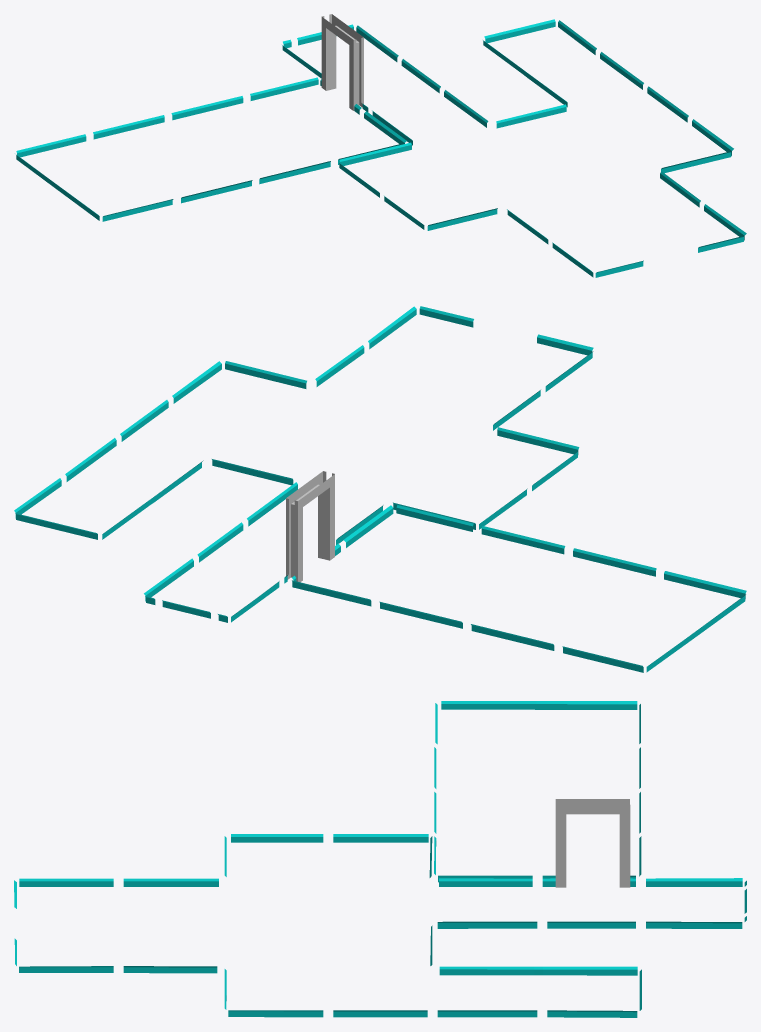
The model's file is CABIN_Boards_And_Doorway.fbx.
3 renders of one model, top to bottom at view 1: azimuth 30°, elevation 25°; view 2: azimuth 150°, elevation 25°; view 3: azimuth 270°, elevation 25°, orthographic. The views are drawn at different scales.
Visible parts, largest first — view 1: Cabin Retopo.002; view 2: Cabin Retopo.002; view 3: Cabin Retopo.002.
Boxes of the visible parts, <box> form: Cabin Retopo.002: <box>16,14,746,277</box>; Cabin Retopo.002: <box>14,306,746,672</box>; Cabin Retopo.002: <box>14,701,746,1017</box>.
Bounding box in the file's own units: 3333 × 416 × 3332.
